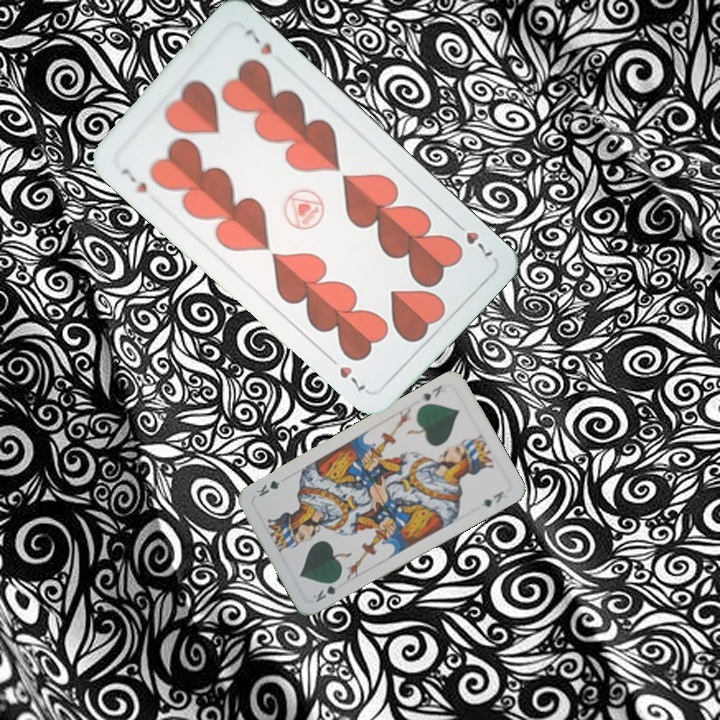GK: (308, 575, 343, 605), (418, 381, 445, 404)
H7: (449, 216, 495, 260), (116, 163, 150, 196)
